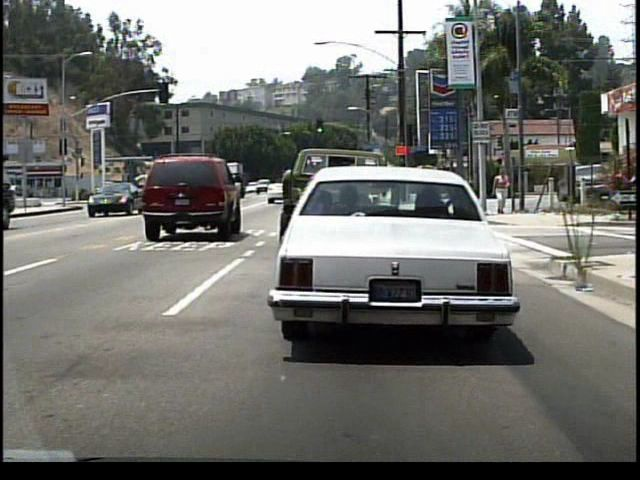person: (494, 168, 511, 216)
